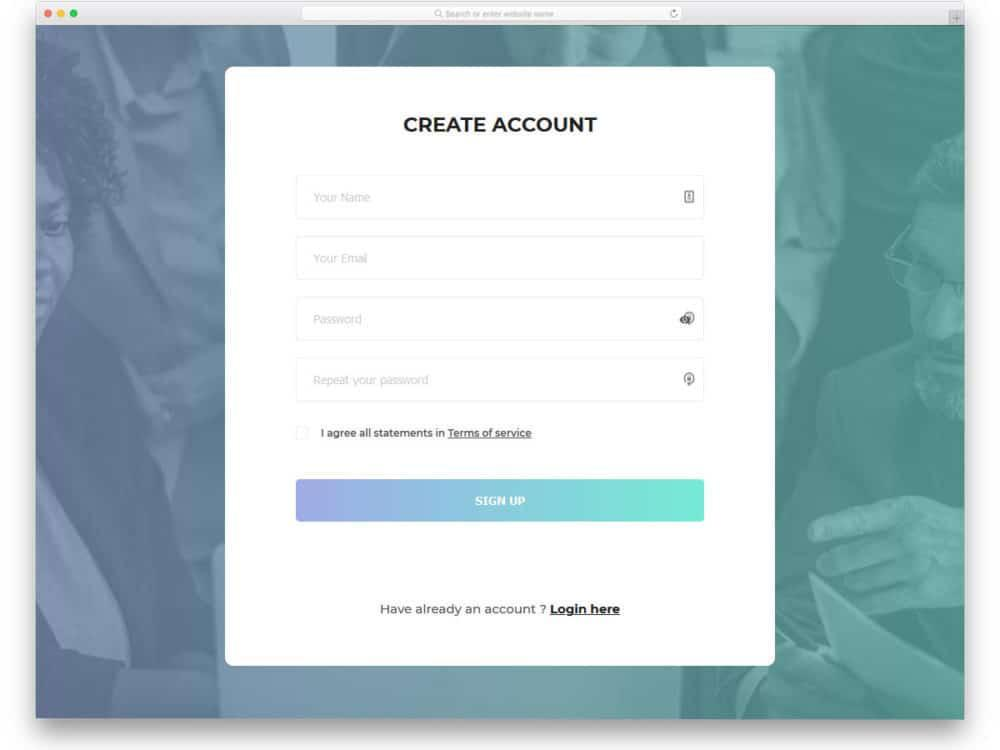button: (295, 478, 709, 525)
checkbox: (296, 425, 312, 443)
input: (294, 171, 707, 224), (293, 233, 708, 285), (293, 293, 707, 345), (293, 354, 707, 404)
label: (402, 112, 599, 137), (377, 602, 625, 620), (318, 427, 534, 442)
